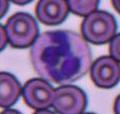N: (31, 29, 90, 82)
